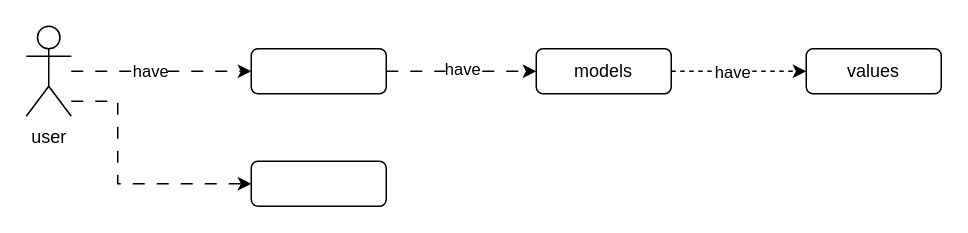
The diagram is 968 pixels wide and 233 high, and some of its shapes have lost their labels. Each missing label, with the centre of its shape:
"contracts" belongs at pixel 318 70.
"login" belongs at pixel 318 183.
